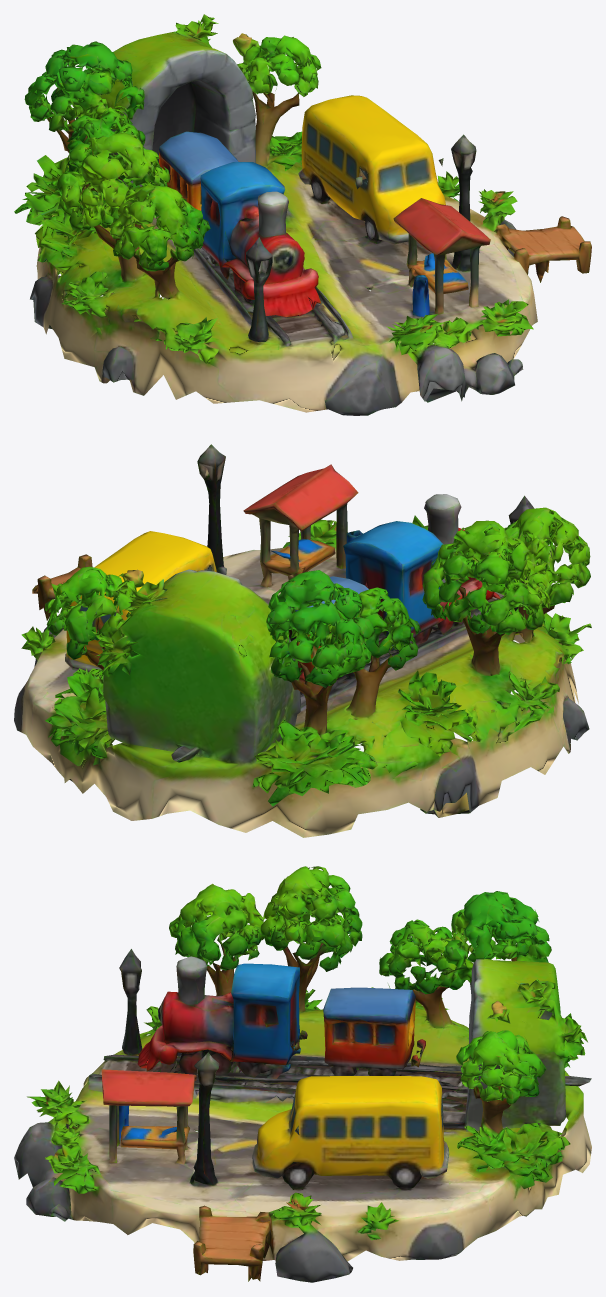
File: isl-10.glb
3 views of the same model, one above another, from view 1: azimuth 30°, elevation 25°; view 2: azimuth 150°, elevation 25°; view 3: azimuth 270°, elevation 25° (orthographic). The views are drawn at different scales.
Parts seen in each view (by area): view 1: world; view 2: world; view 3: world.
Boxes of the visible parts, box(x1,y1,x2,y2) form: world: box(14, 14, 591, 415); world: box(14, 444, 591, 837); world: box(14, 866, 591, 1282).
Bounding box in the file's own units: 0.9555 × 0.426 × 0.9862.
1 material, 1 textured.
